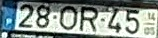2: (17, 2, 35, 28)
4: (106, 7, 122, 34)
5: (124, 8, 140, 35)
8: (34, 3, 52, 29)
O: (58, 4, 79, 31)
R: (78, 5, 99, 33)
